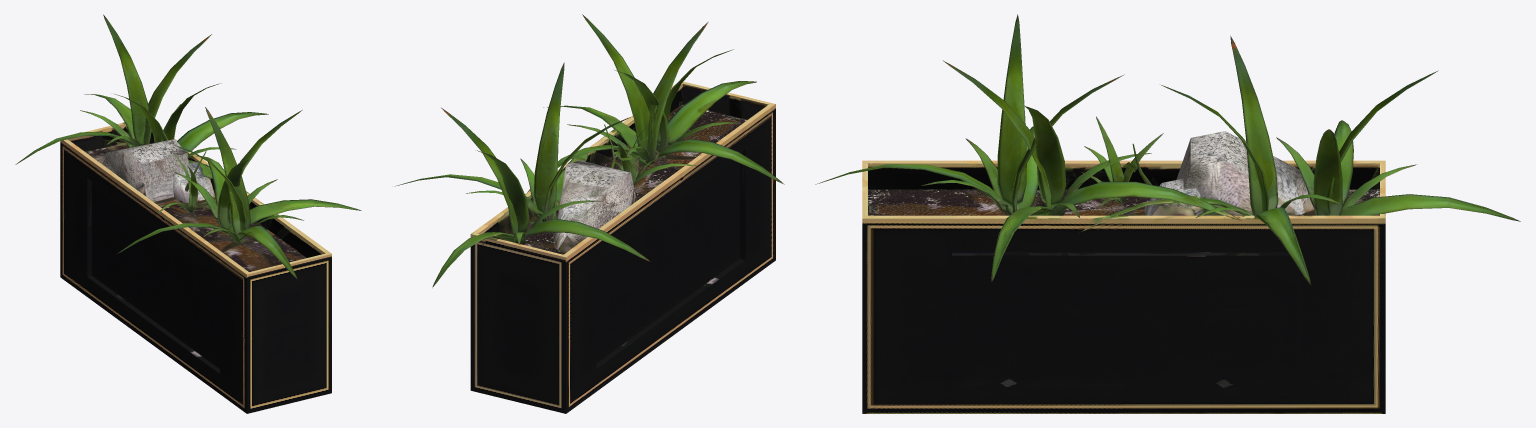
File: plant_0705035930_texture.fbx
3 views of the same model, side by side, from view 1: azimuth 30°, elevation 25°; view 2: azimuth 150°, elevation 25°; view 3: azimuth 270°, elevation 25° (orthographic). The views are drawn at different scales.
Visible parts, largest first — view 1: Mesh_0; view 2: Mesh_0; view 3: Mesh_0.
Boxes of the visible parts, x1,y1,x2,y2 form: Mesh_0: (15, 14, 361, 413); Mesh_0: (395, 14, 784, 413); Mesh_0: (815, 14, 1520, 413).
Bounding box in the file's own units: 115 × 102 × 200.
Materials: 1 (1 with a texture image).
